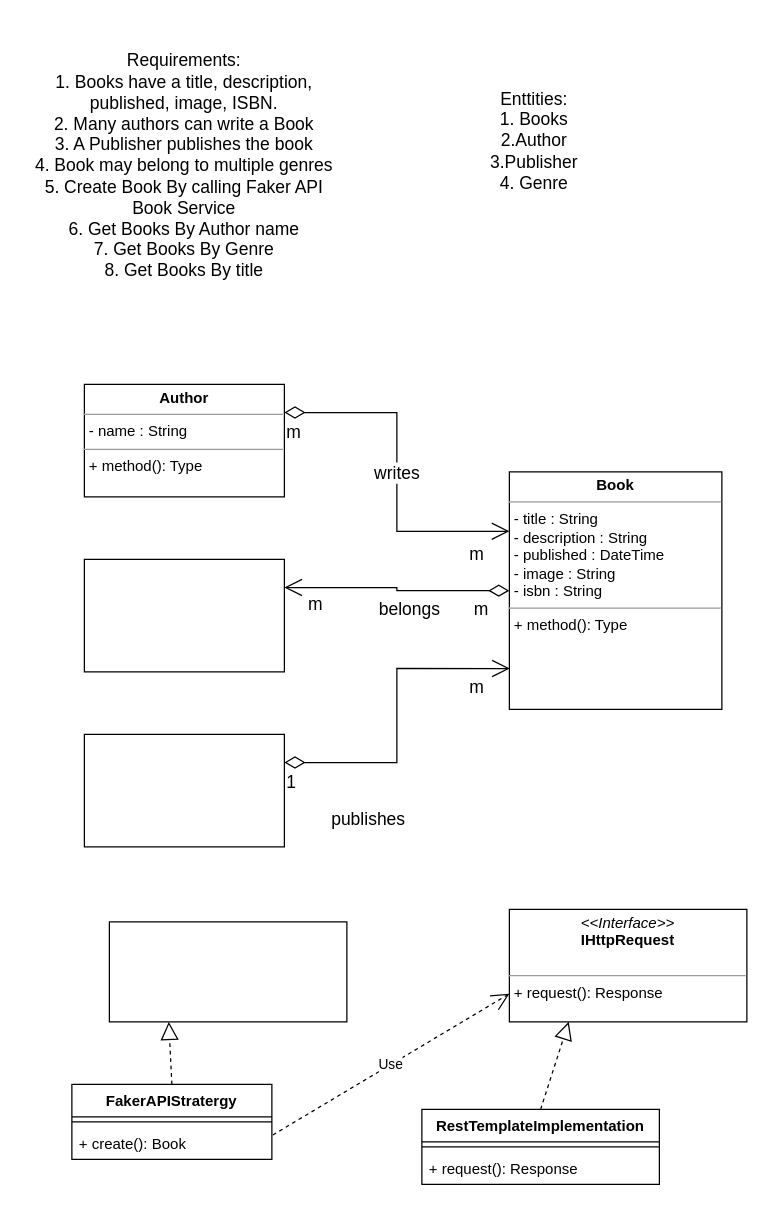
Some shapes in this 769 by 1209 pixel diagram are drawn without their labels. Here are the shapes that lost their labels. From the top down, the centre of each, then its label:
[183,615]: Genre - name : String + method(): Type
[183,790]: Publisher - name : String + method(): Type
[227,971]: <<Interface>> ICreateBook + create(): Book
